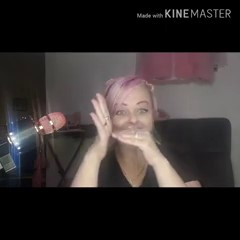Z: (85, 90, 167, 167)
